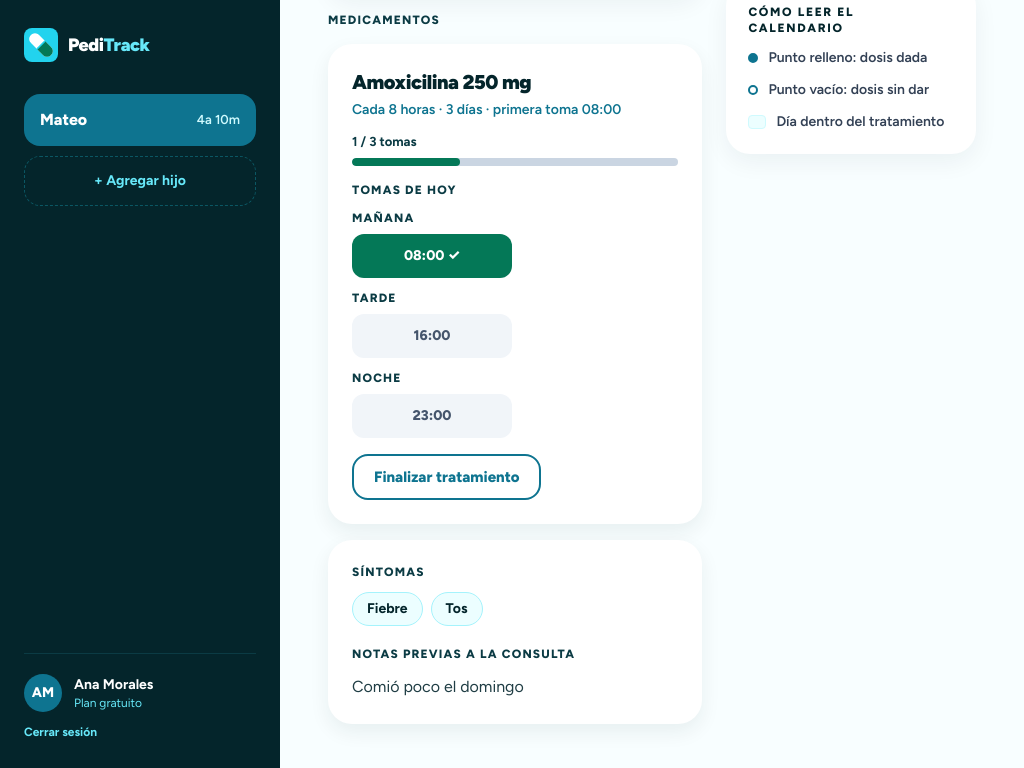
Test: ConsultationDetailPage › on the phone (mock 03) › ending the treatment early (specs/016) › offers "Finalizar tratamiento" while doses are ahead; Cancelar changes nothing
The width and height of the screenshot is (1024, 768).
(page scrolled)
Click the button "Finalizar tratamiento".
click(447, 477)  # box [352,454,541,500]
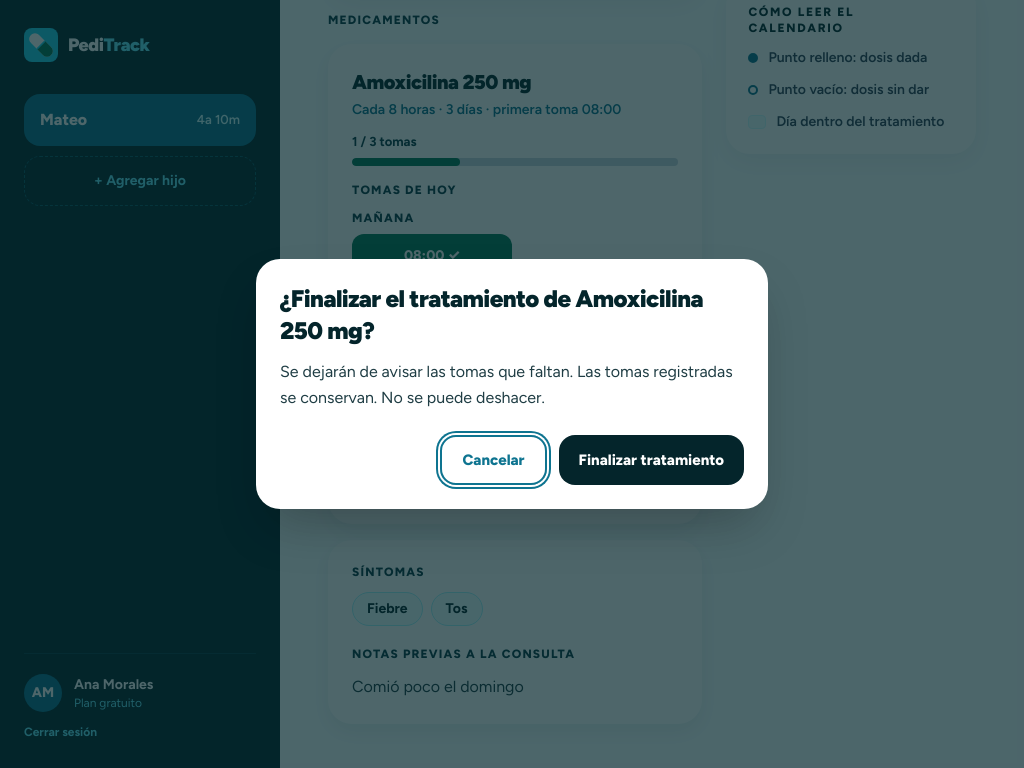
Now the dialog "¿Finalizar el tratamiento de Amoxicilina 250 mg?" is shown, box [256,259,768,509]
Click the button "Cancelar".
click(494, 460)  # box [440,435,547,485]
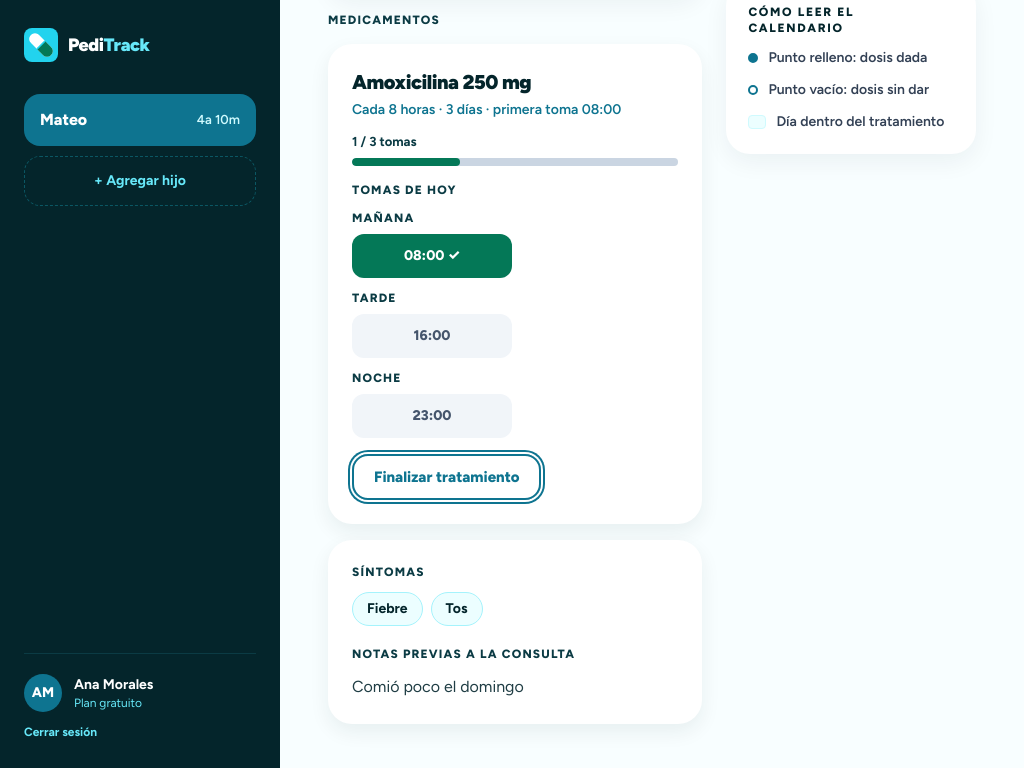
Now the dialog is gone
